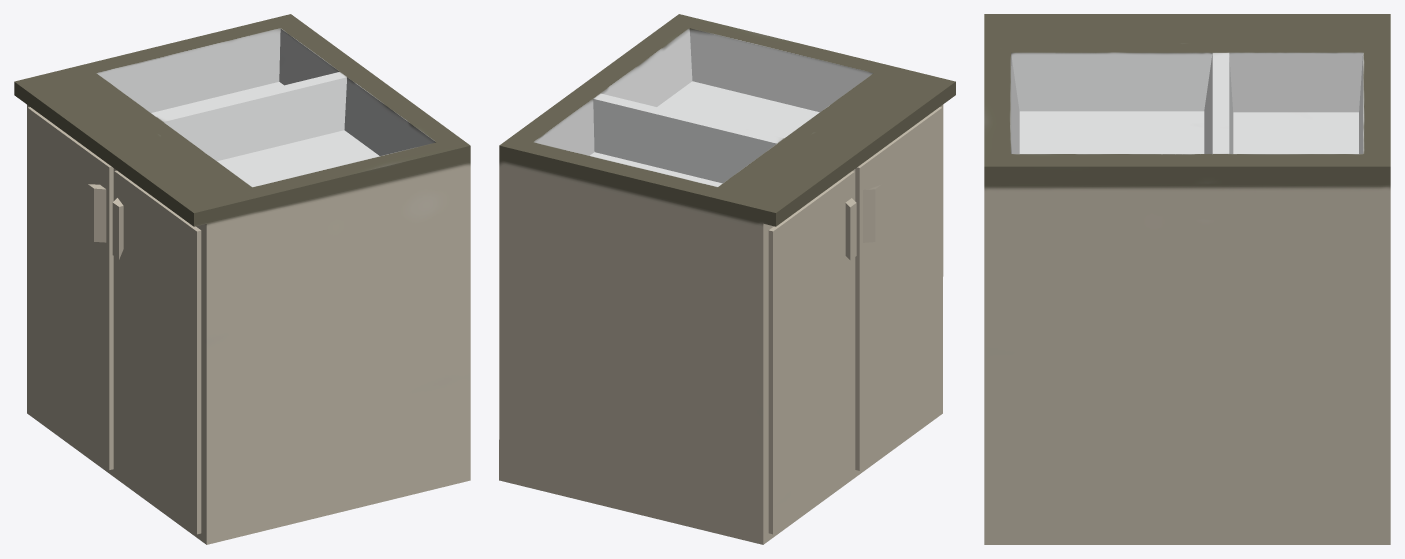
File: KitchenSink.fbx
The picture shows the model from 3 angles, left to right: view 1: azimuth 30°, elevation 25°; view 2: azimuth 150°, elevation 25°; view 3: azimuth 270°, elevation 25°; orthographic projection. The views are drawn at different scales.
Visible parts, largest first — view 1: SinkOBJ; view 2: SinkOBJ; view 3: SinkOBJ.
Boxes of the visible parts, box(x1,y1,x2,y2) form: SinkOBJ: box(14, 14, 470, 544); SinkOBJ: box(499, 14, 955, 544); SinkOBJ: box(984, 14, 1390, 544).
Bounding box in the file's own units: 90.51 × 105 × 102.
Materials: 1 (1 with a texture image).
